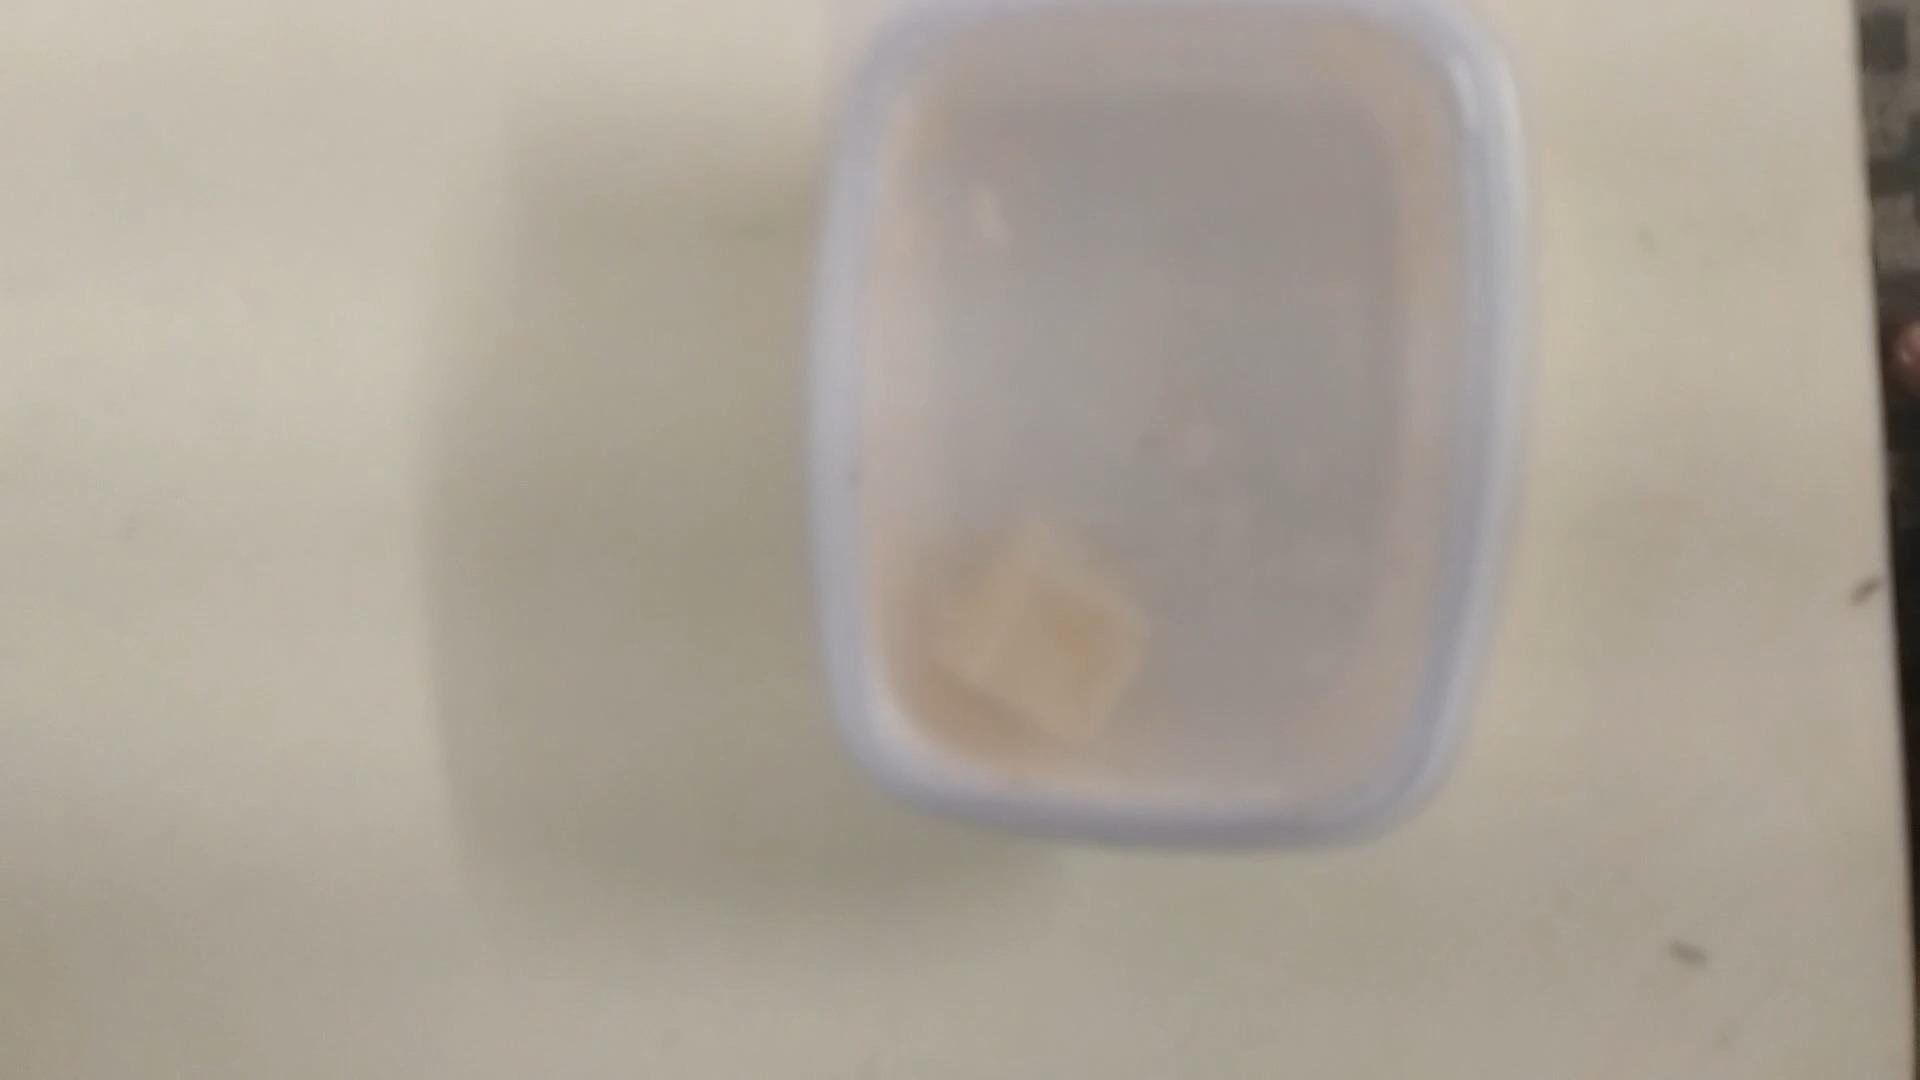butter: (814, 8, 1513, 855)
